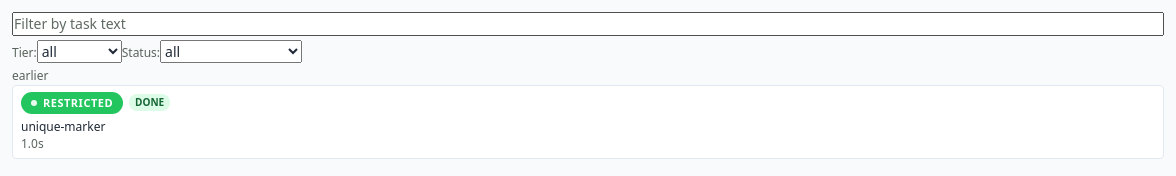
Test case: RunHistory › shows no-runs-match when filters exclude everything
This screenshot has width=1176, height=176.
Step 1. Type "nope" into the field named "filter runs by task text" → (588, 24), box x1=12 y1=12 x2=1164 y2=36
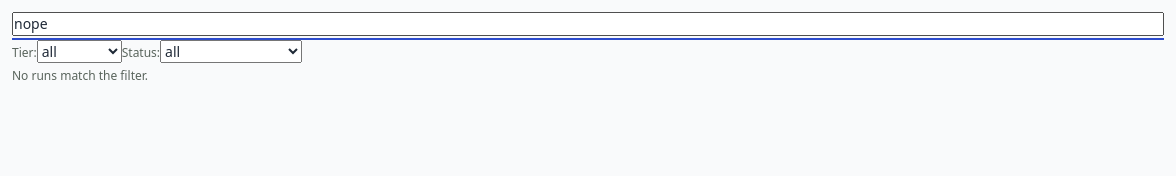
Expected: the text "No runs match the filter." is shown, x1=12 y1=67 x2=148 y2=84
